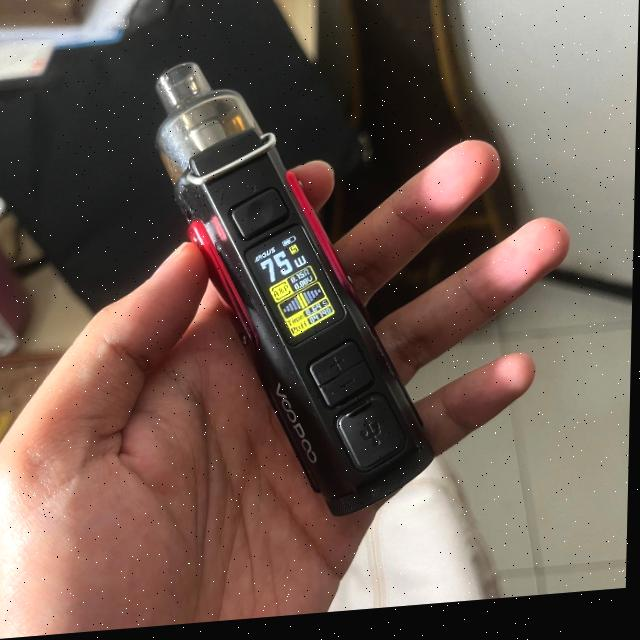vape: (148, 47, 445, 536)
